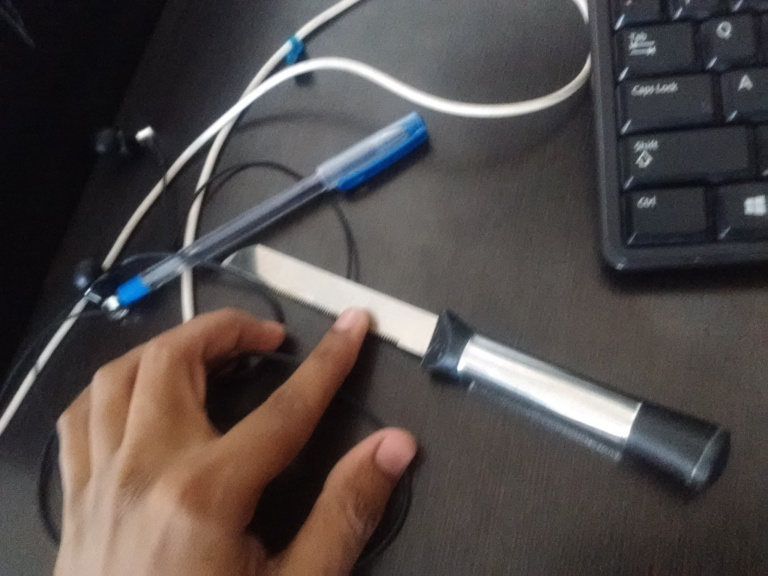knife: (215, 240, 734, 499)
